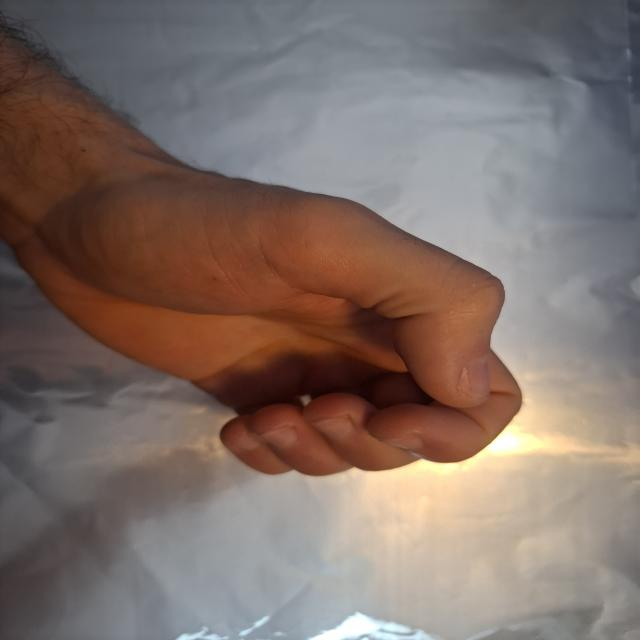glove_off: (8, 156, 525, 479)
